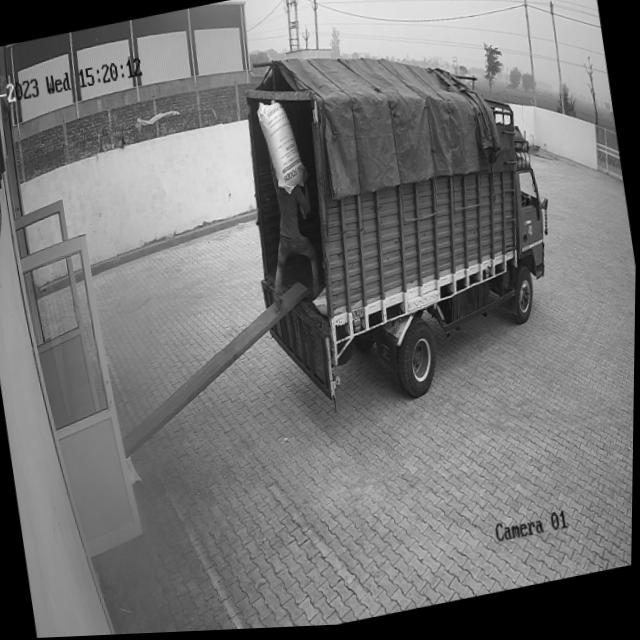sack: (255, 99, 310, 200)
